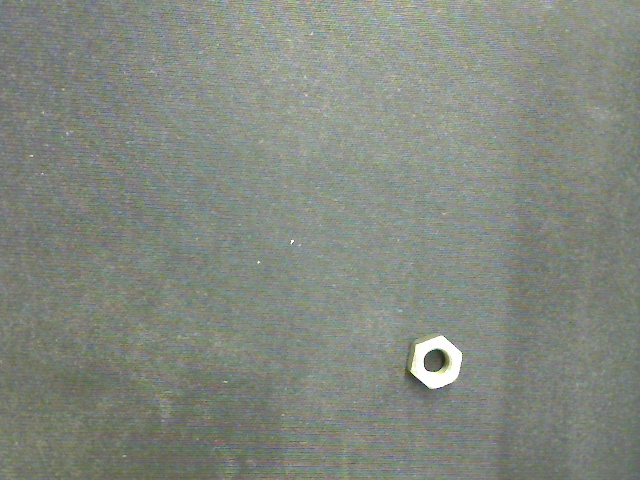Nut: (409, 334, 463, 389)
